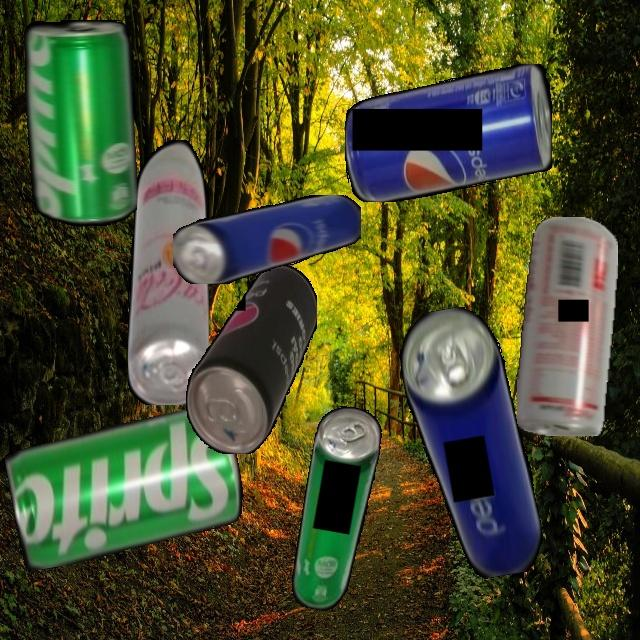debris: (393, 300, 548, 586), (2, 402, 250, 572), (344, 63, 552, 202), (185, 264, 317, 454), (23, 20, 137, 226), (516, 217, 618, 436), (127, 139, 209, 405), (286, 402, 386, 615), (173, 194, 361, 284)
